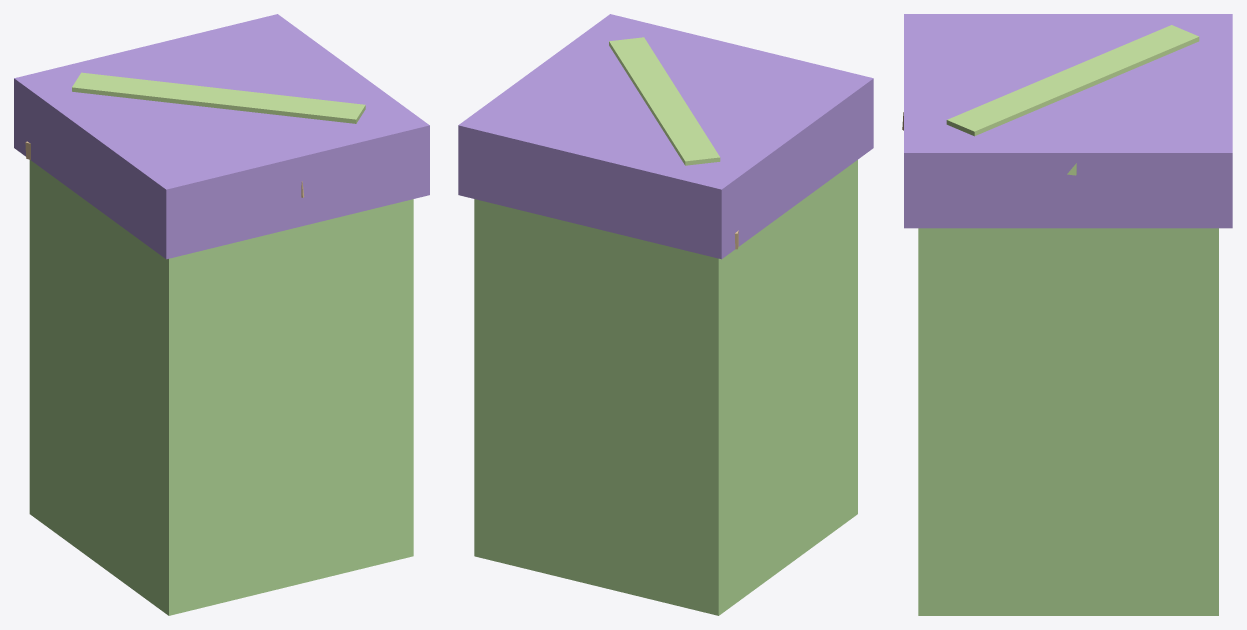
File: woodbase.glb
3 renders of one model, left to right at view 1: azimuth 30°, elevation 25°; view 2: azimuth 150°, elevation 25°; view 3: azimuth 270°, elevation 25°, orthographic. The views are drawn at different scales.
Visible parts, largest first — view 1: S6|SM_Foundation_Hesco#0, S5|SM_WoodBase_01#0, S4|SM_Wooden_Plank_02a#5; view 2: S6|SM_Foundation_Hesco#0, S5|SM_WoodBase_01#0, S4|SM_Wooden_Plank_02a#5; view 3: S6|SM_Foundation_Hesco#0, S5|SM_WoodBase_01#0, S4|SM_Wooden_Plank_02a#5.
Boxes of the visible parts, box(x1,y1,x2,y2) form: S6|SM_Foundation_Hesco#0: box(29, 160, 413, 615); S5|SM_WoodBase_01#0: box(14, 14, 429, 259); S4|SM_Wooden_Plank_02a#5: box(72, 72, 365, 123); S6|SM_Foundation_Hesco#0: box(474, 160, 857, 615); S5|SM_WoodBase_01#0: box(458, 14, 873, 259); S4|SM_Wooden_Plank_02a#5: box(609, 37, 720, 165); S6|SM_Foundation_Hesco#0: box(918, 228, 1218, 615); S5|SM_WoodBase_01#0: box(904, 14, 1232, 228); S4|SM_Wooden_Plank_02a#5: box(946, 25, 1199, 136).
Bounding box in the file's own units: 1.53 × 2.39 × 1.51.
